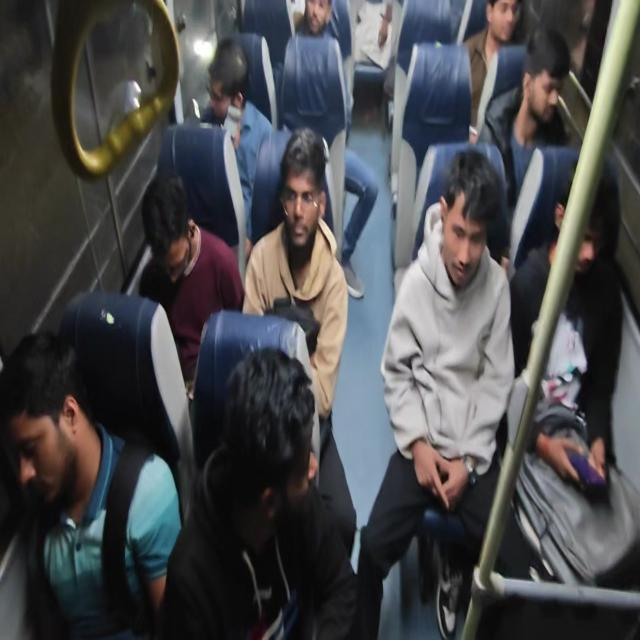person: (228, 336, 328, 526), (0, 320, 86, 513), (132, 159, 204, 291), (271, 124, 331, 260), (437, 148, 495, 285), (558, 150, 604, 258), (522, 33, 572, 121), (204, 43, 252, 131), (486, 0, 521, 60), (304, 0, 330, 48)
